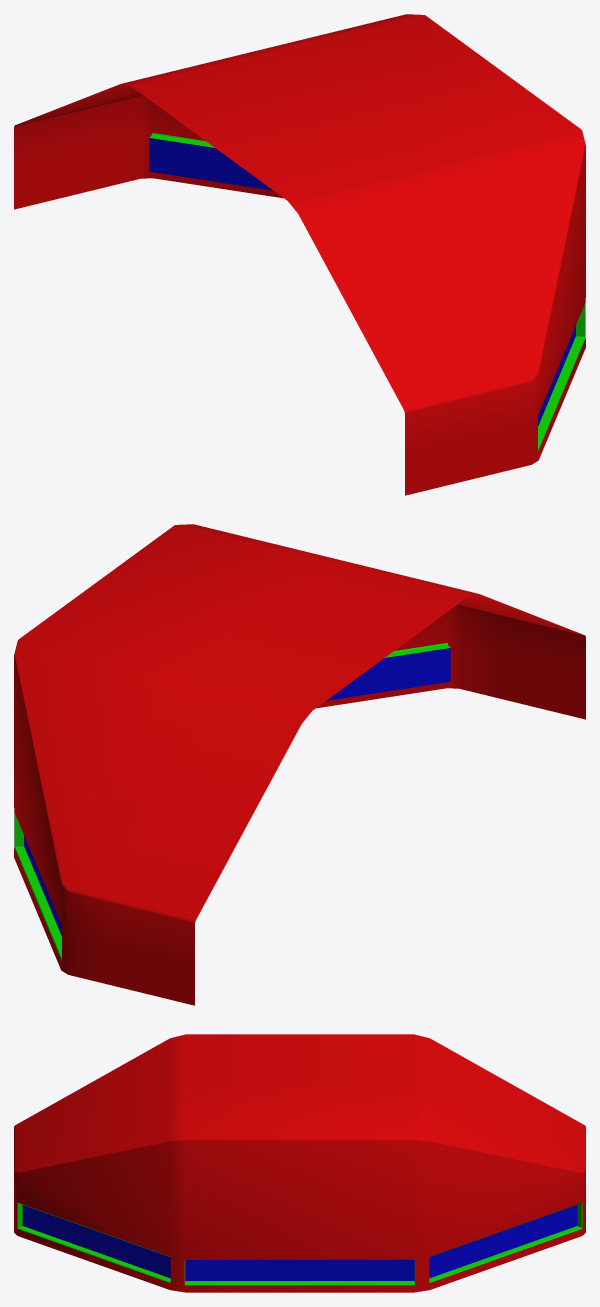
File: top_exp.fbx
The picture shows the model from 3 angles, top to bottom: view 1: azimuth 30°, elevation 25°; view 2: azimuth 150°, elevation 25°; view 3: azimuth 270°, elevation 25°; orthographic projection. The views are drawn at different scales.
Visible parts, largest first — view 1: detail_top_exp_LOW.001; view 2: detail_top_exp_LOW.001; view 3: detail_top_exp_LOW.001.
Boxes of the visible parts, left/top/right/bottom form: detail_top_exp_LOW.001: left=14, top=14, right=585, bottom=495; detail_top_exp_LOW.001: left=14, top=524, right=585, bottom=1005; detail_top_exp_LOW.001: left=14, top=1034, right=585, bottom=1292.
Size of the model in its own units: 25.13 by 17.04 by 57.76.
